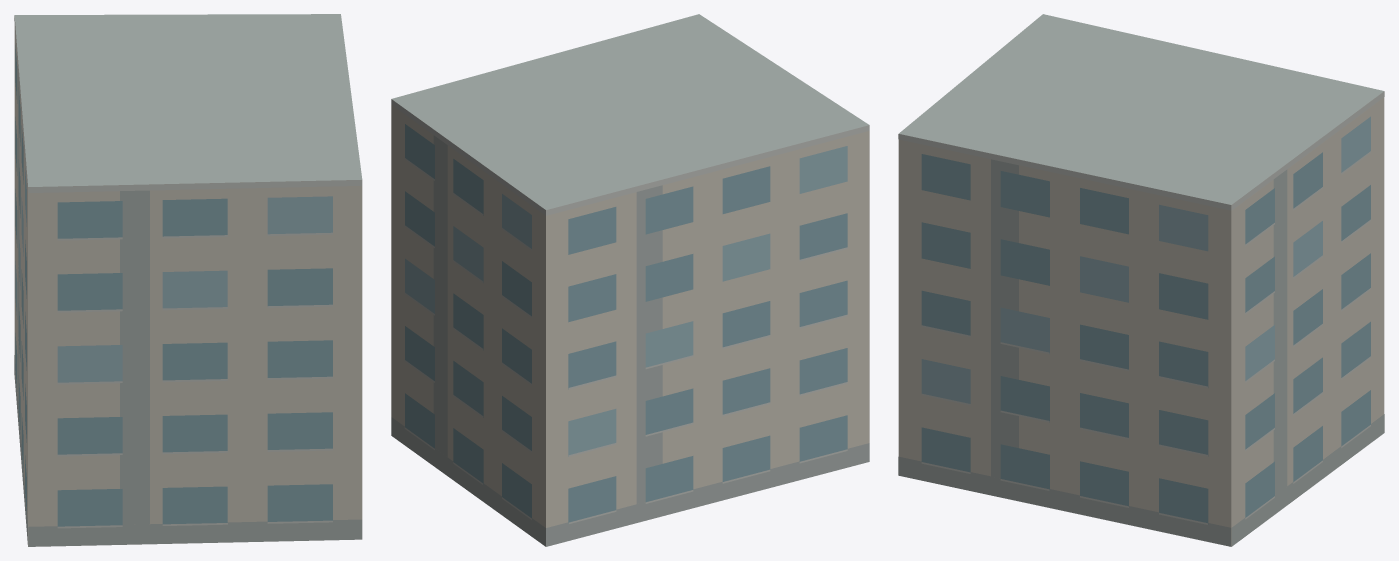
The model's file is survey-upis-32887758.glb.
The picture shows the model from 3 angles, left to right: view 1: azimuth 30°, elevation 25°; view 2: azimuth 150°, elevation 25°; view 3: azimuth 270°, elevation 25°; orthographic projection. The views are drawn at different scales.
Visible parts, largest first — view 1: survey-upis-32887758.tmp; view 2: survey-upis-32887758.tmp; view 3: survey-upis-32887758.tmp.
Part boxes in pixels (box(x1,y1,x2,y2)): survey-upis-32887758.tmp: box(14, 14, 362, 546); survey-upis-32887758.tmp: box(391, 14, 869, 546); survey-upis-32887758.tmp: box(898, 14, 1384, 546).
Bounding box in the file's own units: 17.38 × 14.5 × 18.69.
